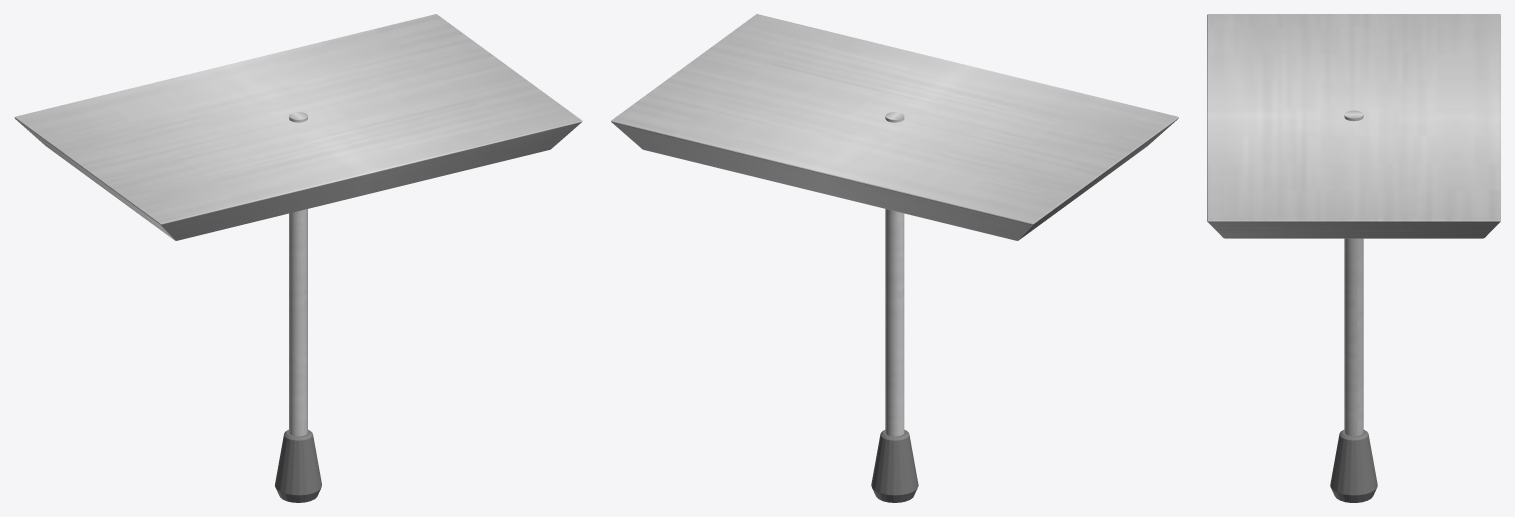
The model's file is LeverModelExport.fbx.
The picture shows the model from 3 angles, left to right: view 1: azimuth 30°, elevation 25°; view 2: azimuth 150°, elevation 25°; view 3: azimuth 270°, elevation 25°; orthographic projection.
Visible parts, largest first — view 1: pCube1, pCylinder3; view 2: pCube1, pCylinder3; view 3: pCube1, pCylinder3.
Part boxes in pixels (box(x1,y1,x2,y2)): pCube1: box(14, 14, 582, 240); pCylinder3: box(275, 112, 321, 502); pCube1: box(611, 14, 1178, 240); pCylinder3: box(871, 112, 918, 502); pCube1: box(1207, 14, 1500, 238); pCylinder3: box(1330, 110, 1377, 502).
Size of the model in its own units: 0.7458 by 0.6389 by 0.4473.
Materials: 2 (1 with a texture image).
